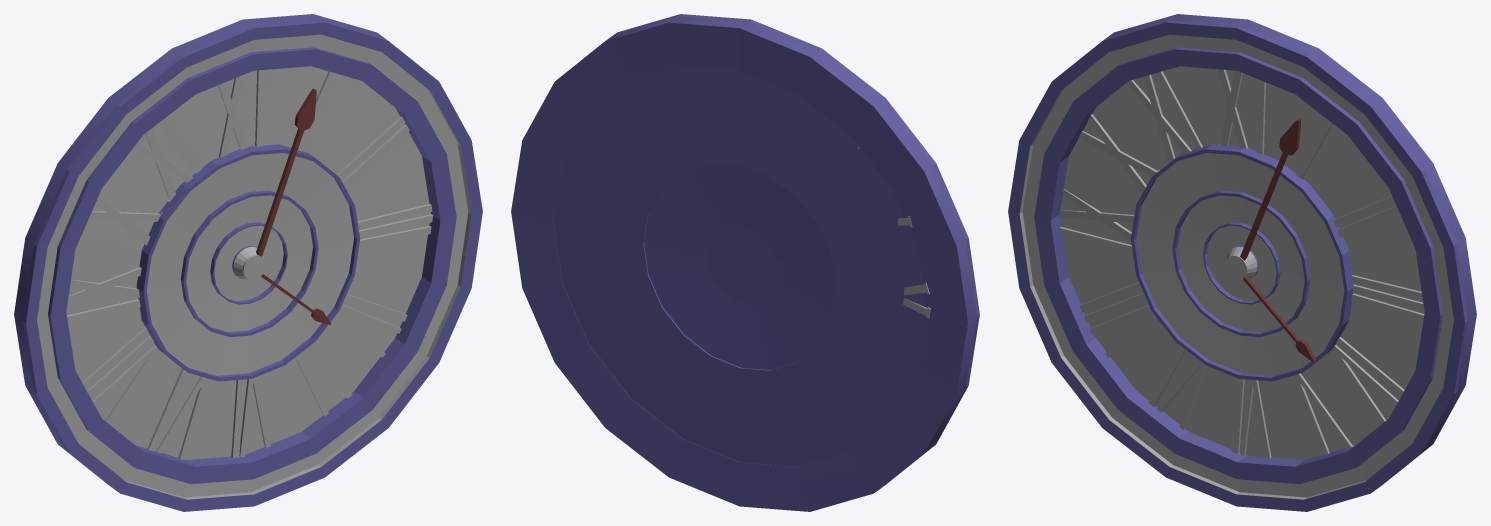
Rendered from FancyClock.fbx.
3 renders of one model, left to right at view 1: azimuth 30°, elevation 25°; view 2: azimuth 150°, elevation 25°; view 3: azimuth 330°, elevation 25°, orthographic.
Parts seen in each view (by area): view 1: pCube32; view 2: pCube32; view 3: pCube32.
Boxes of the visible parts, bbox=[...] form: pCube32: bbox=[14, 14, 482, 511]; pCube32: bbox=[511, 14, 979, 511]; pCube32: bbox=[1008, 14, 1476, 511].
Bounding box in the file's own units: 4.73 × 4.73 × 0.223.
